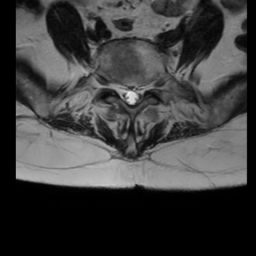CCS_normal: (126, 76, 135, 112)
LFS_normal: (143, 74, 152, 101)
LLS_normal: (135, 76, 143, 108)
RFS_normal: (109, 70, 118, 101)
RLS_normal: (118, 77, 126, 107)
